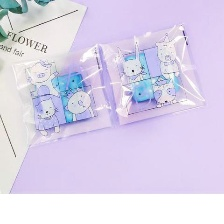snack: (96, 18, 212, 130), (7, 39, 117, 150)
